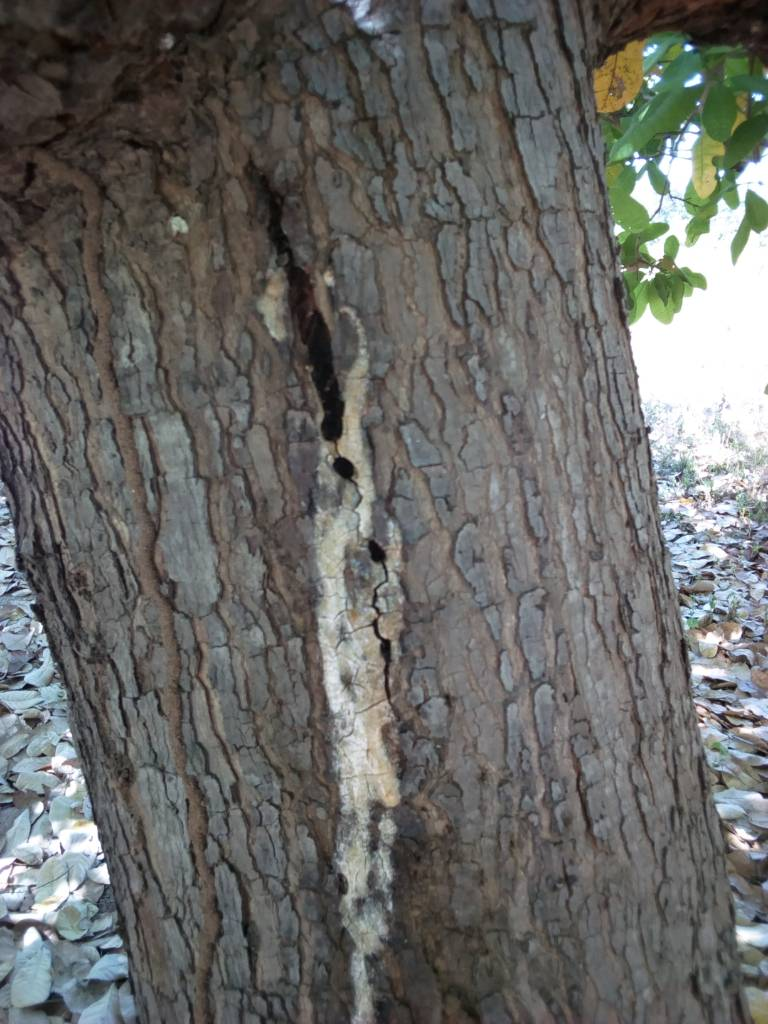Gommose: (252, 174, 349, 467)
